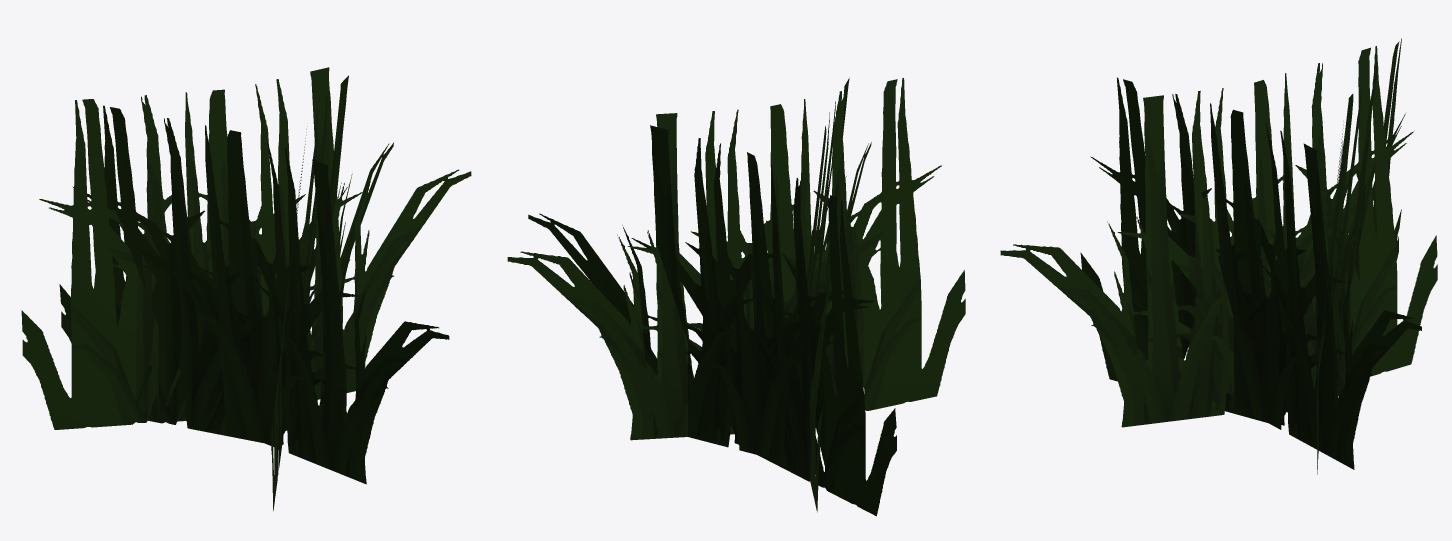
The model's file is GrassCard.FBX.
The picture shows the model from 3 angles, left to right: view 1: azimuth 30°, elevation 25°; view 2: azimuth 150°, elevation 25°; view 3: azimuth 270°, elevation 25°; orthographic projection.
Parts seen in each view (by area): view 1: Plane002; view 2: Plane002; view 3: Plane002.
Boxes of the visible parts, x1=… form: Plane002: x1=21, y1=67, x2=471, y2=510; Plane002: x1=507, y1=77, x2=965, y2=516; Plane002: x1=1000, y1=38, x2=1437, y2=474.
Bounding box in the file's own units: 38.4 × 28.23 × 35.87.
1 material, 1 textured.
